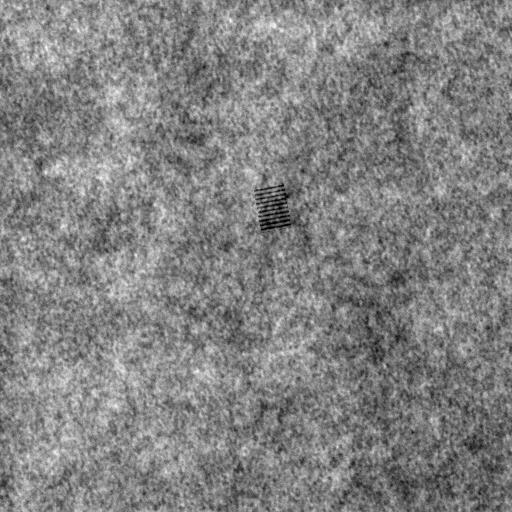DefectTypeB: (255, 182, 291, 233)
